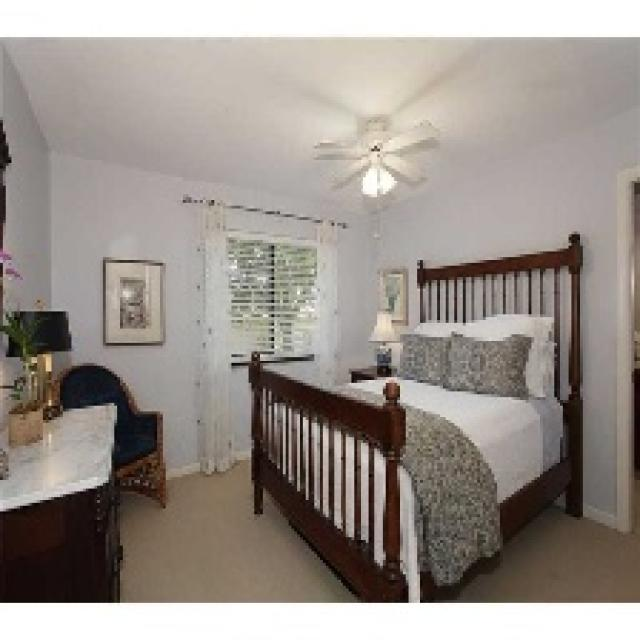Bed: (246, 229, 583, 600)
